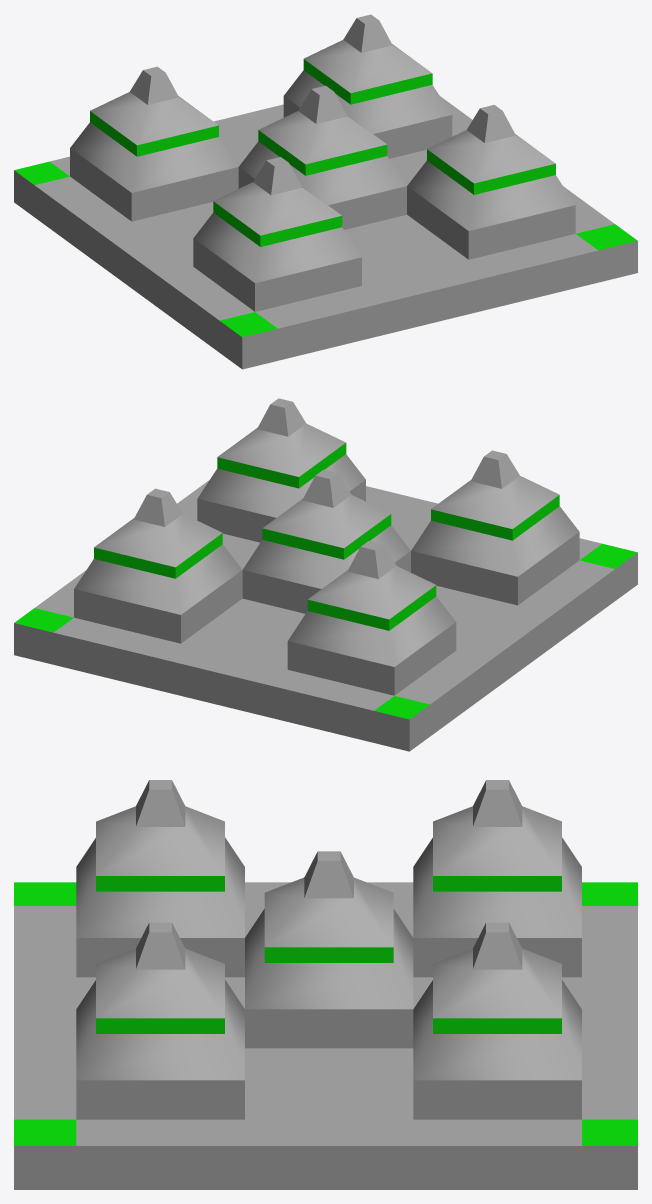
Rendered from Flamethrower.fbx.
3 views of the same model, one above another, from view 1: azimuth 30°, elevation 25°; view 2: azimuth 150°, elevation 25°; view 3: azimuth 270°, elevation 25° (orthographic). The views are drawn at different scales.
Parts seen in each view (by area): view 1: Flamethrower; view 2: Flamethrower; view 3: Flamethrower.
Part boxes in pixels (x1,y1,x2,y2): Flamethrower: [14, 14, 637, 369]; Flamethrower: [14, 398, 637, 751]; Flamethrower: [14, 780, 637, 1189].
Bounding box in the file's own units: 12.06 × 4.28 × 12.06.
